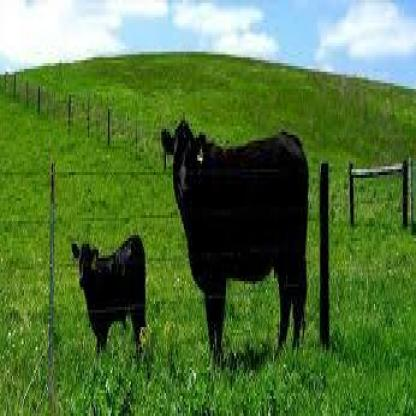cow: (164, 115, 310, 353), (70, 232, 148, 356)
